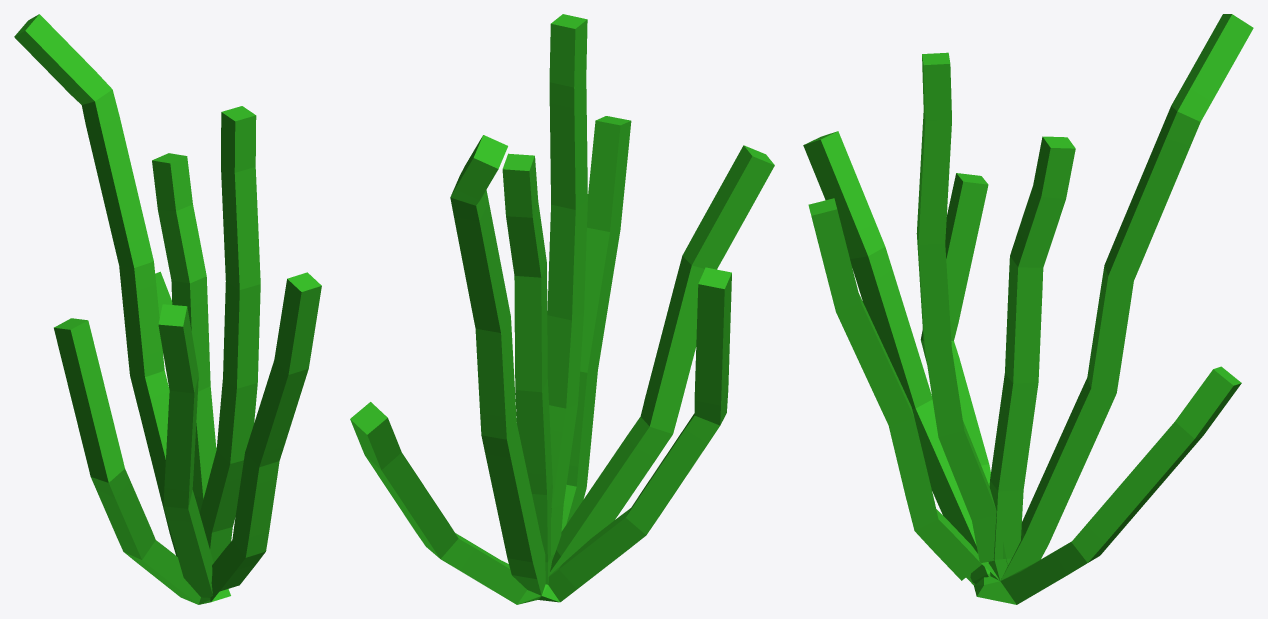
Rendered from grass2.glb.
3 views of the same model, side by side, from view 1: azimuth 30°, elevation 25°; view 2: azimuth 150°, elevation 25°; view 3: azimuth 270°, elevation 25° (orthographic). The views are drawn at different scales.
Visible parts, largest first — view 1: Root; view 2: Root; view 3: Root.
Boxes of the visible parts, box(x1,y1,x2,y2) form: Root: box(14, 14, 321, 604); Root: box(350, 14, 774, 604); Root: box(803, 14, 1253, 604).
Size of the model in its own units: 0.2504 by 0.5412 by 0.3989.
